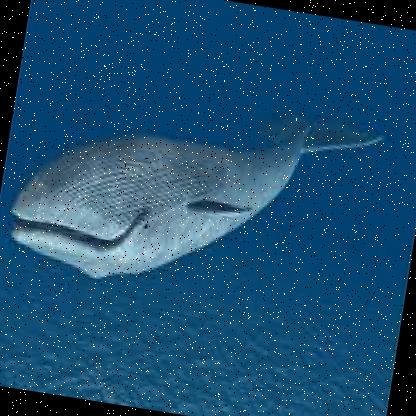blue_whale: (0, 30, 404, 331)
